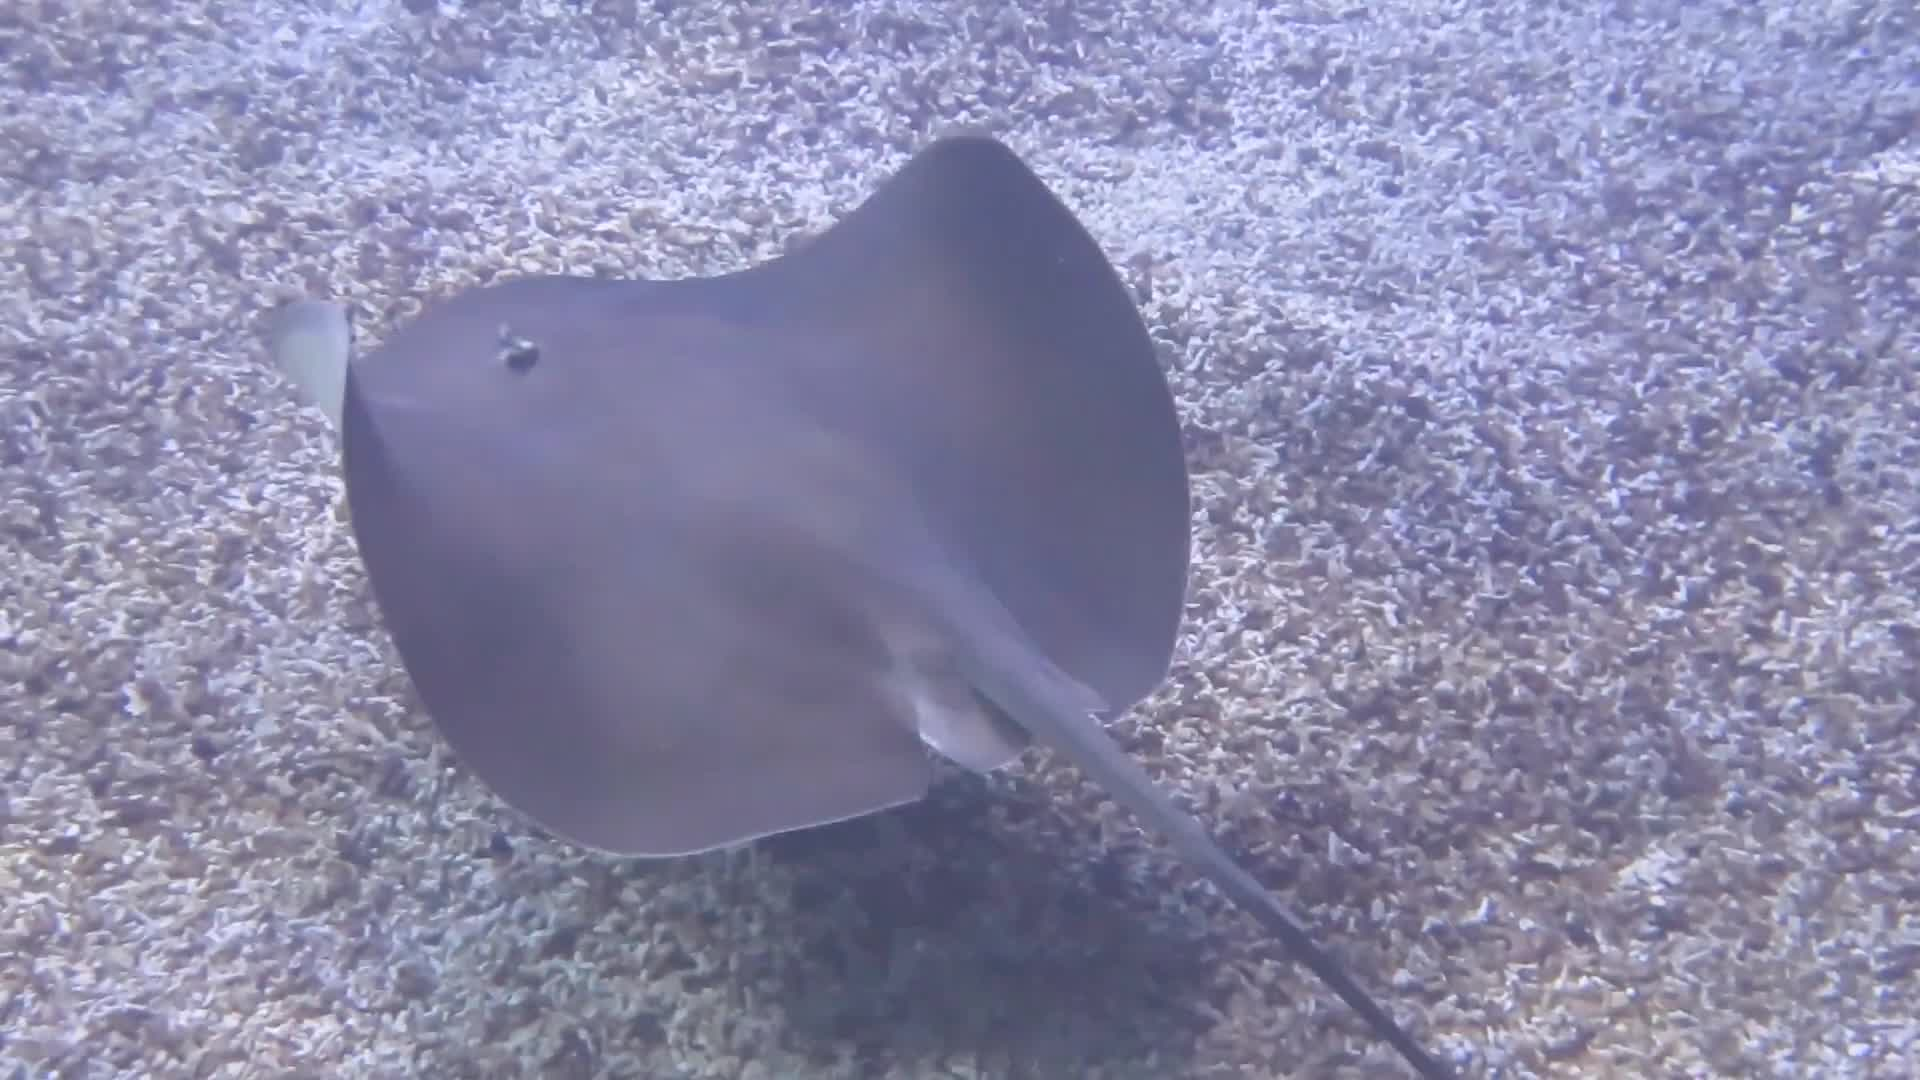Dasyatis akajei: (203, 111, 1505, 1080)
